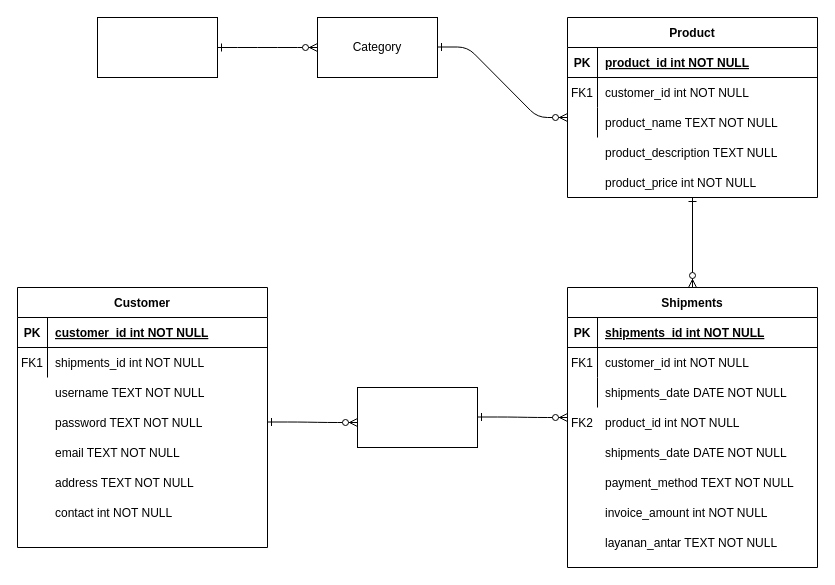
Some shapes in this 835 by 585 pixel diagram are drawn without their labels. Each missing label, with the centre of its shape:
Order: (417,417)
Visitor: (157,47)
